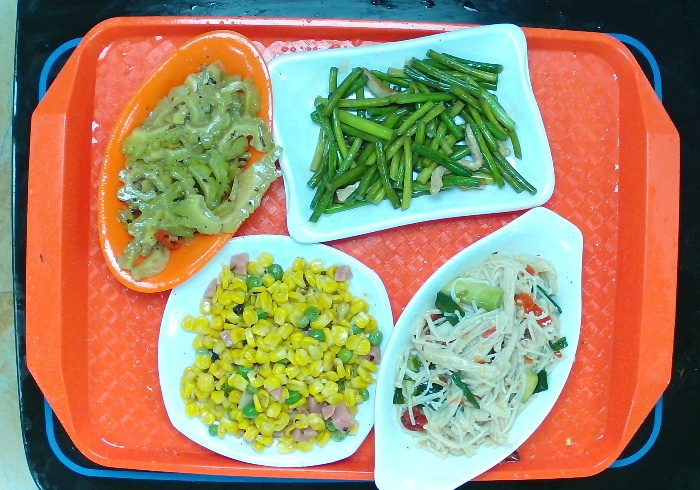RJxy-Ju_Huang_Tuo_Yuan: (94, 27, 281, 296)
RJxy-Si_Fang_Ao_Bian_Wan: (262, 20, 559, 247)
RJxy-Si_Fang_Die: (156, 231, 393, 471)
RJxy-Yu_Pan: (369, 201, 587, 490)
